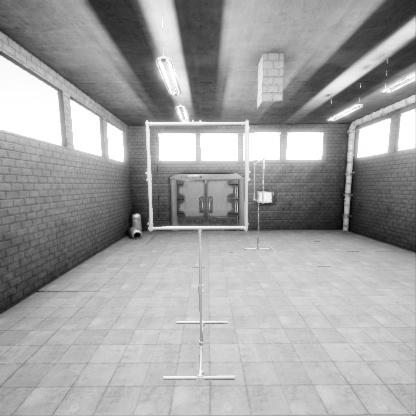gate: (152, 192, 256, 295), (254, 214, 264, 258)
